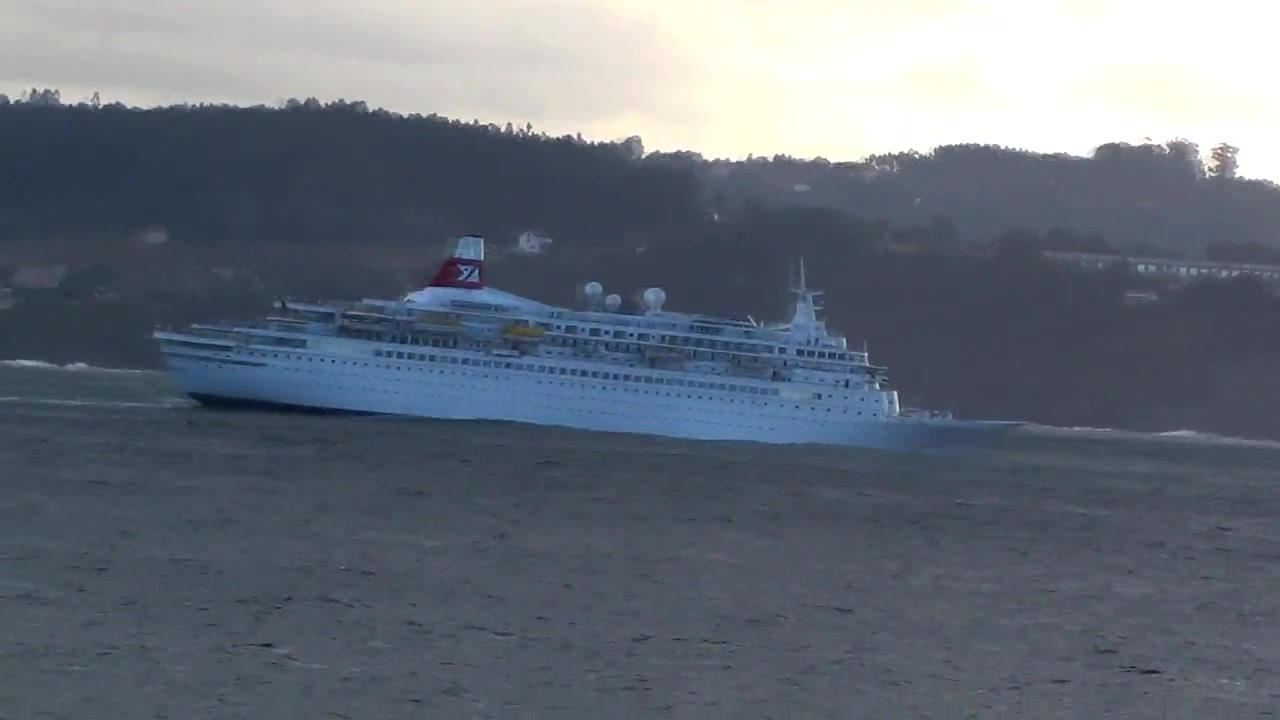boat: (149, 230, 1033, 463)
